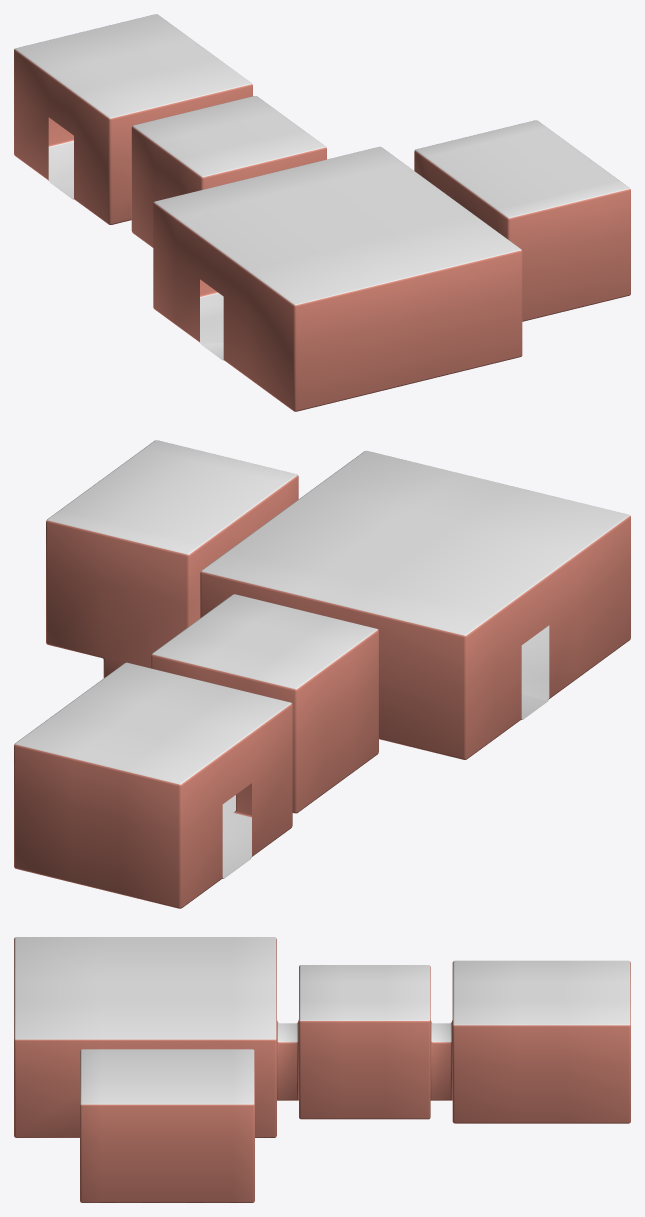
Rendered from Levels01.fbx.
The picture shows the model from 3 angles, top to bottom: view 1: azimuth 30°, elevation 25°; view 2: azimuth 150°, elevation 25°; view 3: azimuth 270°, elevation 25°; orthographic projection. The views are drawn at different scales.
Visible parts, largest first — view 1: Rooms.001; view 2: Rooms.001; view 3: Rooms.001.
Boxes of the visible parts, left/top/right/bottom form: Rooms.001: left=14, top=14, right=630, bottom=411; Rooms.001: left=14, top=440, right=630, bottom=908; Rooms.001: left=14, top=937, right=630, bottom=1202.
Bounding box in the file's own units: 18.1 × 6 × 28.09.
